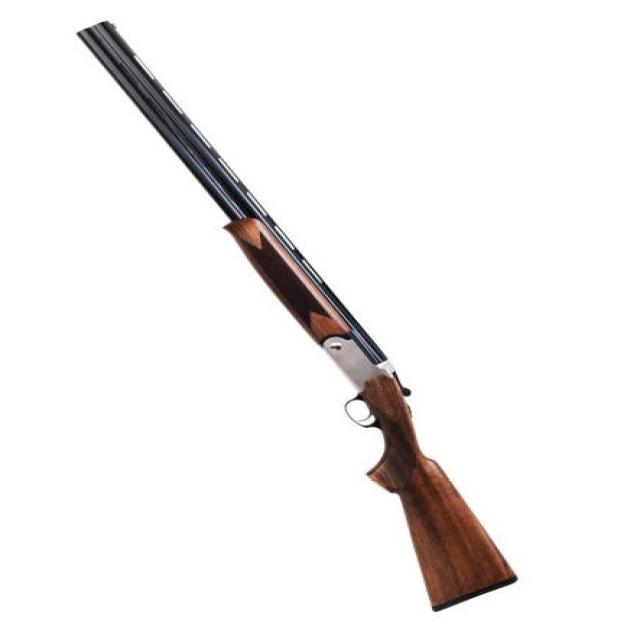rifle: (72, 14, 539, 625)
